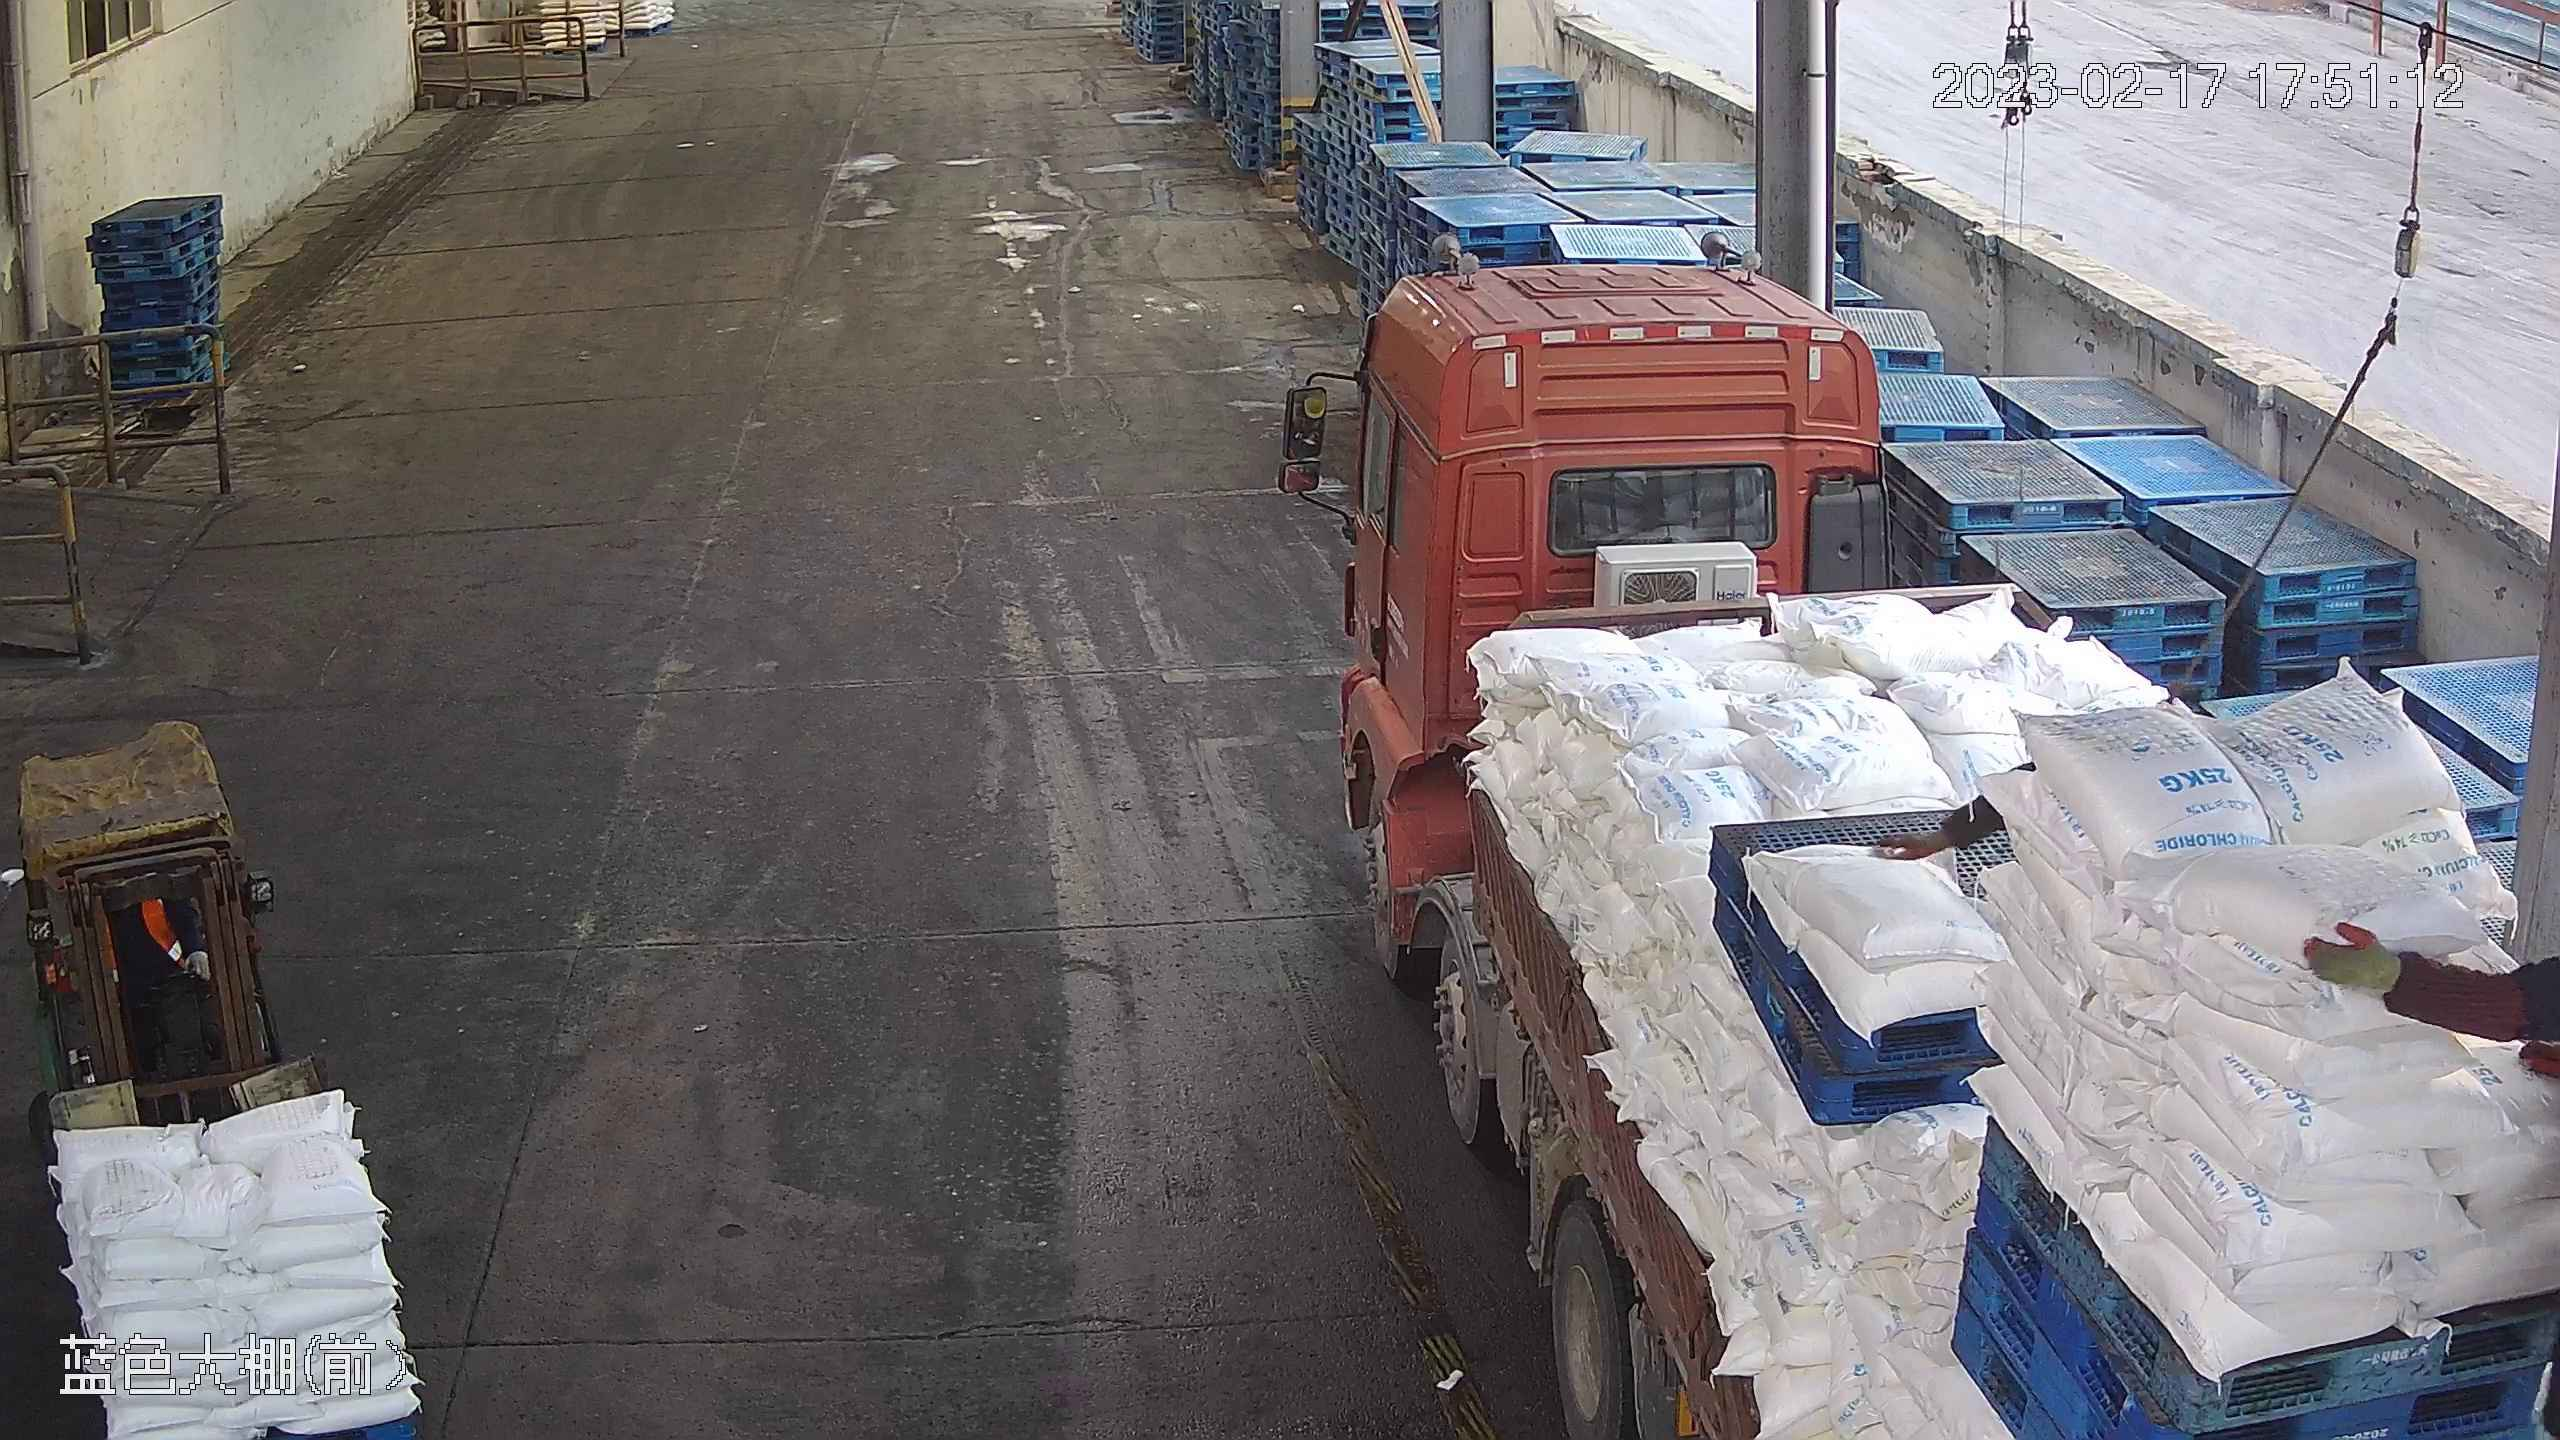truck: (1275, 236, 2560, 1440)
